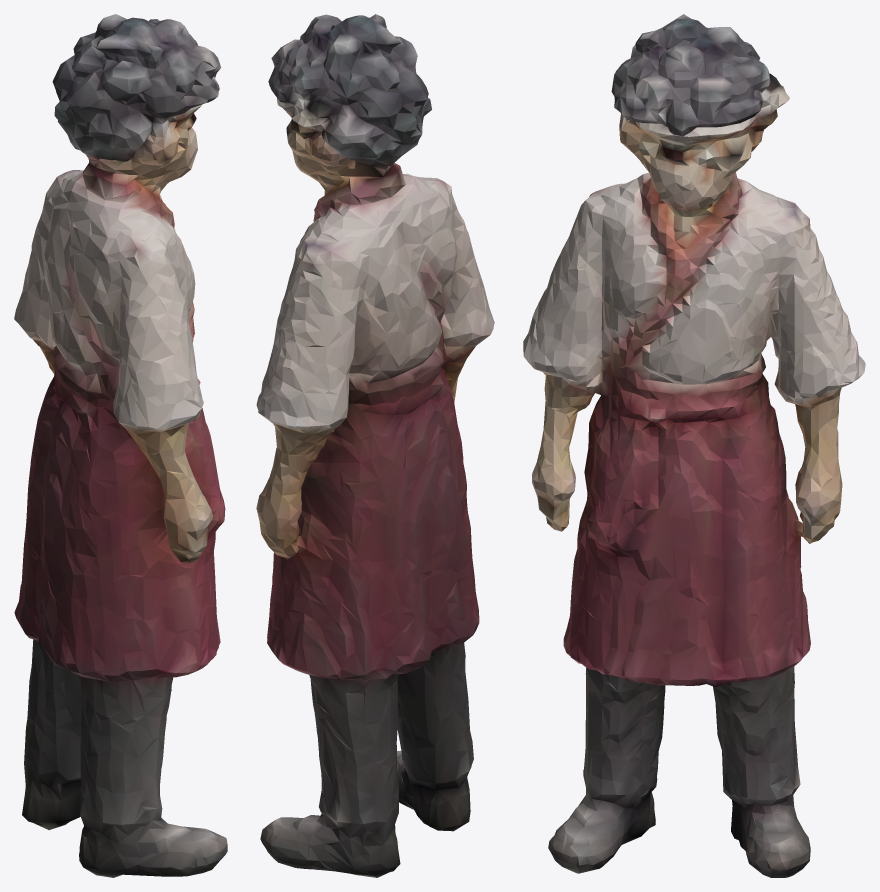
The model's file is npc-gyukatsu-chef.glb.
3 renders of one model, left to right at view 1: azimuth 30°, elevation 25°; view 2: azimuth 150°, elevation 25°; view 3: azimuth 270°, elevation 25°, orthographic. The views are drawn at different scales.
Parts seen in each view (by area): view 1: world; view 2: world; view 3: world.
Part boxes in pixels (x1,y1,x2,y2): world: [14, 14, 227, 877]; world: [256, 14, 494, 877]; world: [523, 14, 865, 877].
Bounding box in the file's own units: 0.2231 × 0.9742 × 0.3586.
